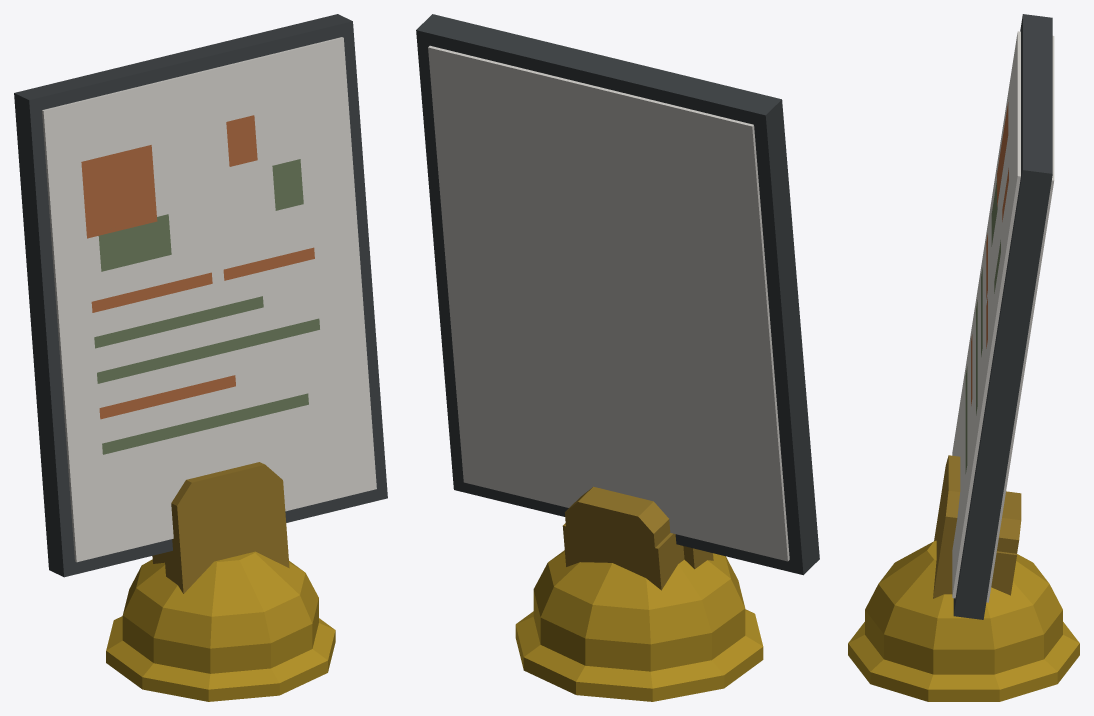
Rendered from table_menu.glb.
3 views of the same model, side by side, from view 1: azimuth 30°, elevation 25°; view 2: azimuth 150°, elevation 25°; view 3: azimuth 270°, elevation 25° (orthographic). The views are drawn at different scales.
Visible parts, largest first — view 1: card-mesh, stand; view 2: card-mesh, stand; view 3: card-mesh, stand.
Boxes of the visible parts, x1,y1,x2,y2 form: card-mesh: [14, 14, 387, 577]; stand: [106, 462, 335, 701]; card-mesh: [416, 14, 819, 575]; stand: [515, 486, 763, 701]; card-mesh: [952, 14, 1054, 619]; stand: [848, 455, 1079, 701].
Bounding box in the file's own units: 0.11 × 0.1851 × 0.069.
